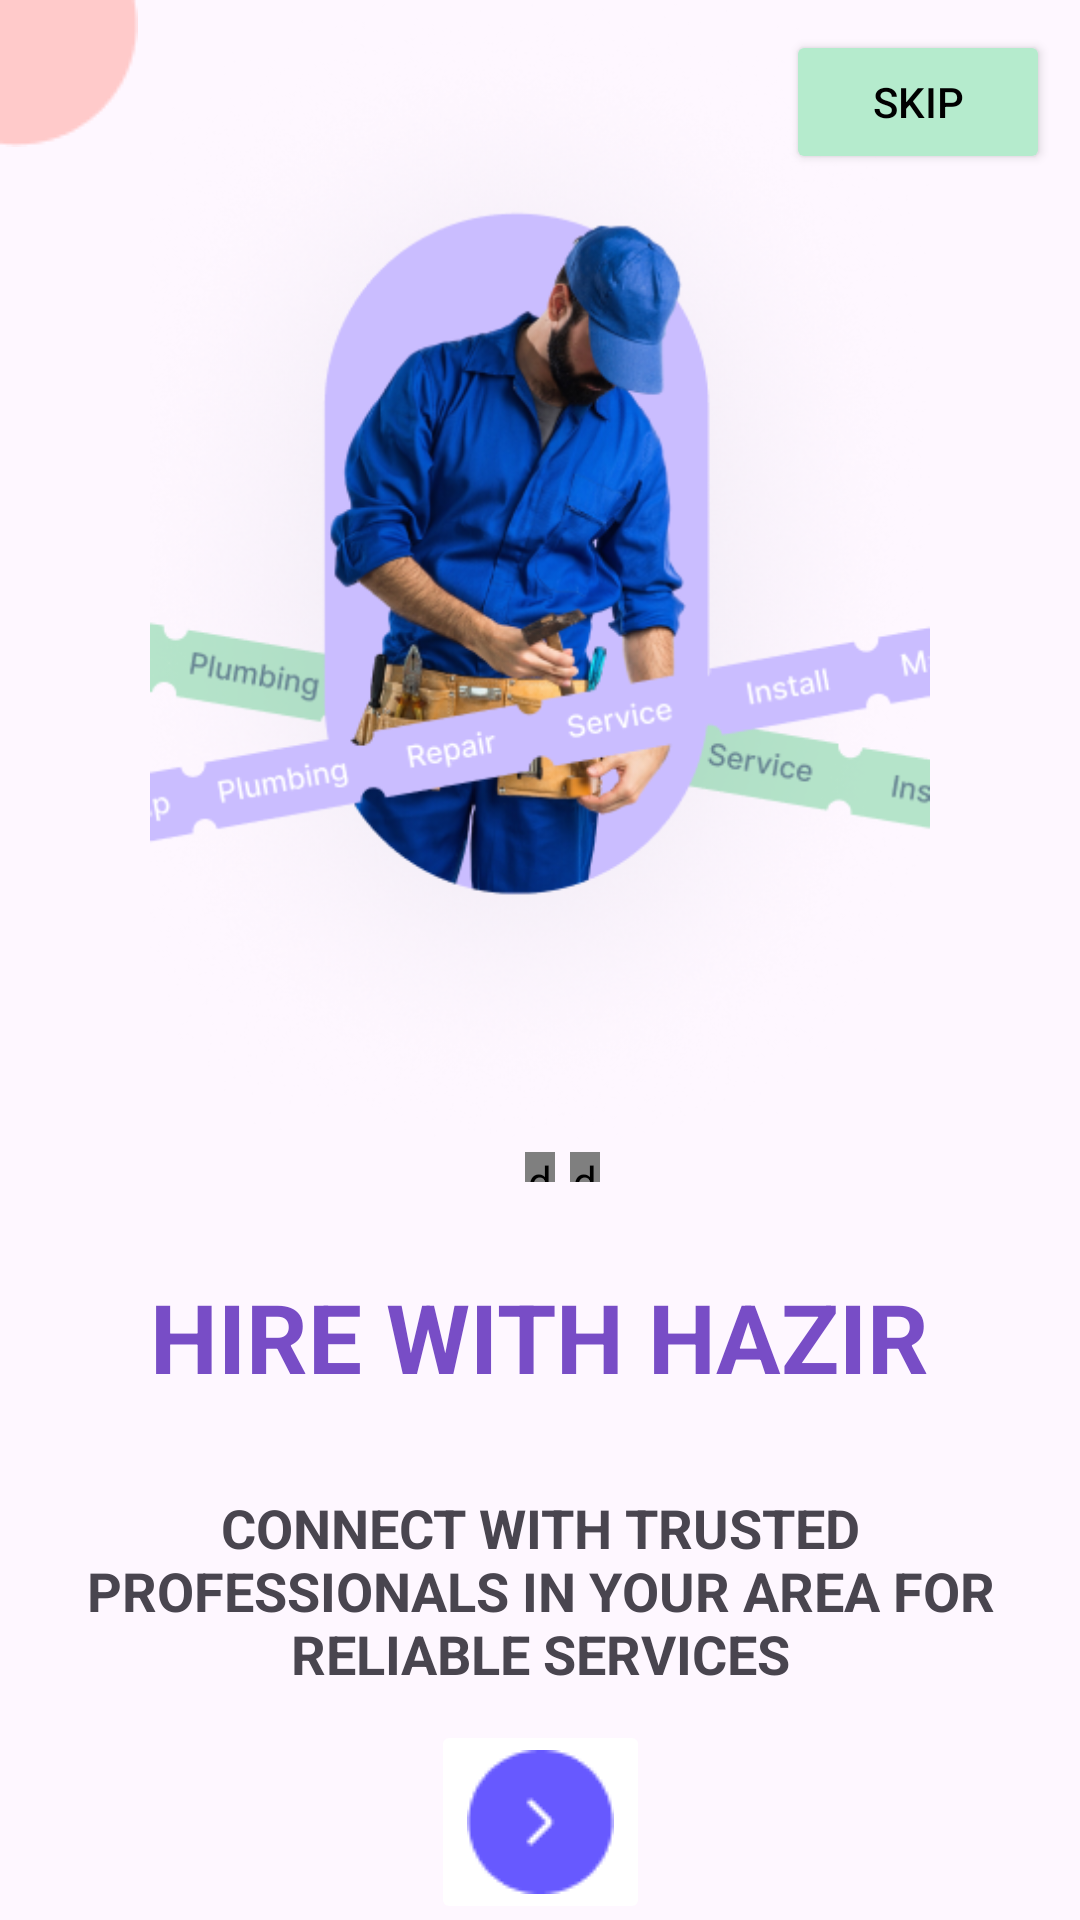

Named icons in this screenshot (1080x1920) and their centers, point (x, y):
Next: point (540, 1822)
